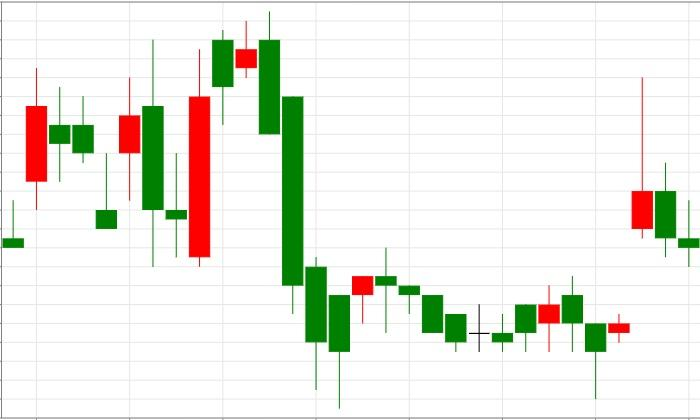bearish_engulfing_fall: (165, 11, 281, 266)
